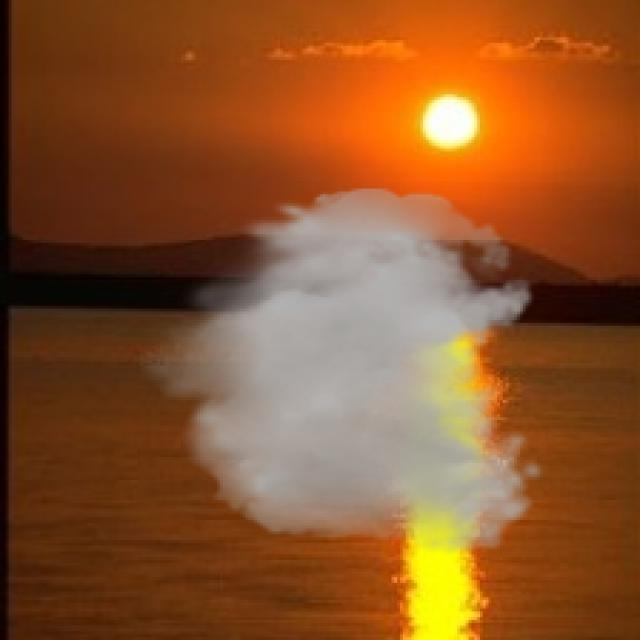Smoke: (131, 188, 546, 554)
